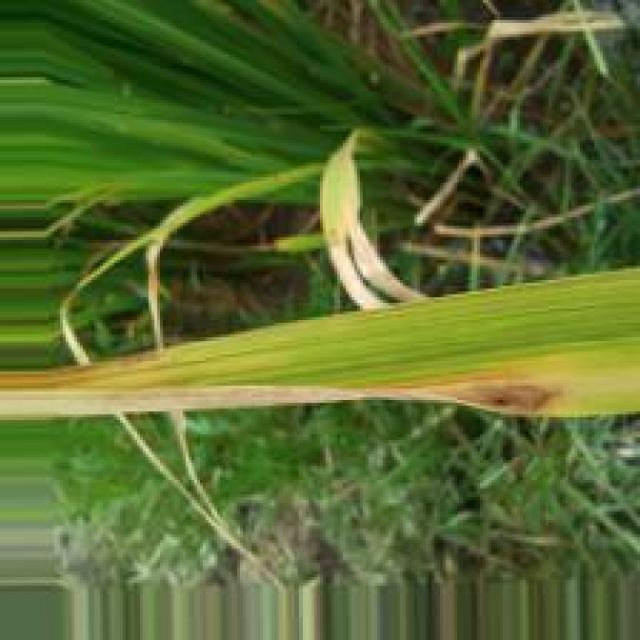Brown_Spot: (429, 380, 572, 413), (117, 348, 164, 368)
